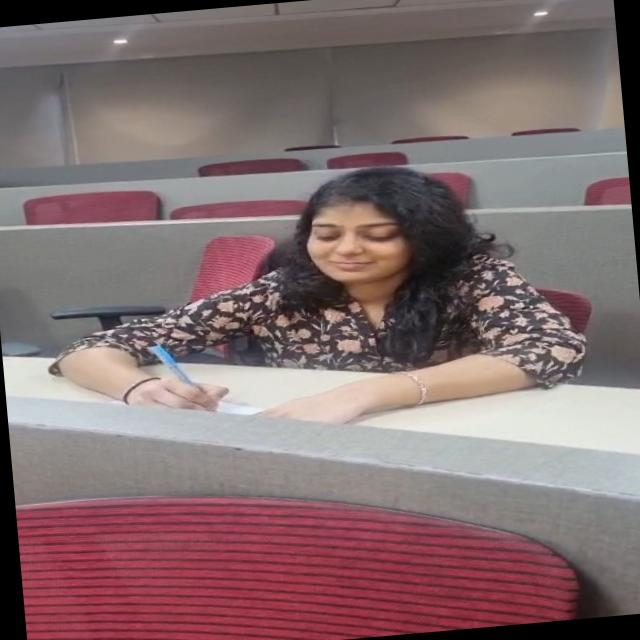non-cheating: (58, 104, 612, 463)
